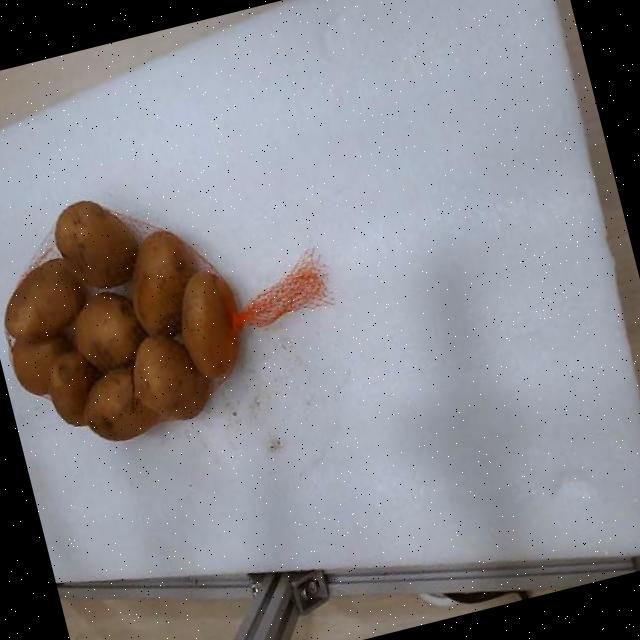potato: (54, 200, 138, 288), (4, 258, 85, 342), (132, 229, 194, 335), (134, 334, 207, 421), (181, 270, 237, 378), (83, 366, 160, 440), (74, 291, 145, 369), (11, 334, 72, 394), (49, 350, 97, 426)
